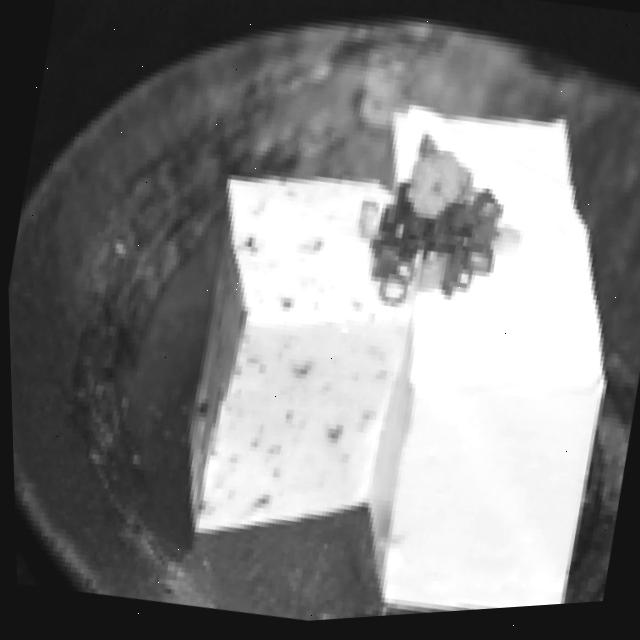豆腐料理: (144, 61, 640, 633)
